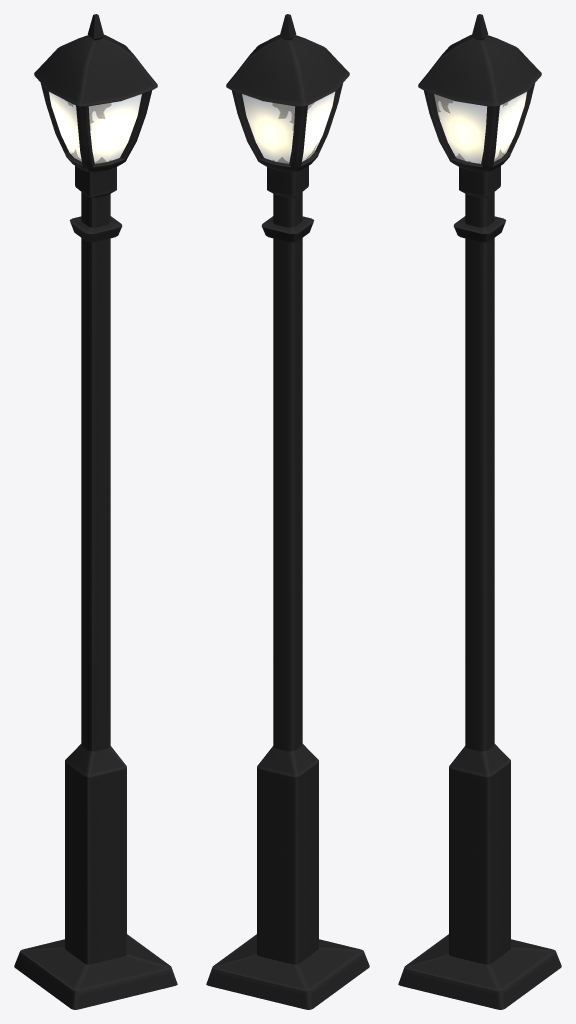
Rendered from Farolito.glb.
3 views of the same model, side by side, from view 1: azimuth 30°, elevation 25°; view 2: azimuth 150°, elevation 25°; view 3: azimuth 330°, elevation 25° (orthographic).
Visible parts, largest first — view 1: Light_LampPost_Posters_LOD0; view 2: Light_LampPost_Posters_LOD0; view 3: Light_LampPost_Posters_LOD0.
Part boxes in pixels (x1=…): Light_LampPost_Posters_LOD0: x1=14, y1=14, x2=177, y2=1009; Light_LampPost_Posters_LOD0: x1=206, y1=14, x2=369, y2=1009; Light_LampPost_Posters_LOD0: x1=398, y1=14, x2=561, y2=1009.
Bounding box in the file's own units: 0.4646 × 4.02 × 0.4646.
Materials: 1 (1 with a texture image).
